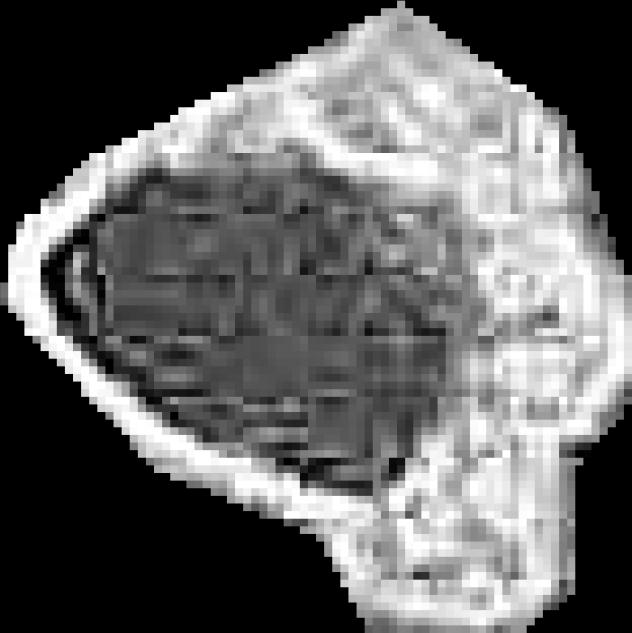tumor_good_chance: (0, 1, 632, 633)
